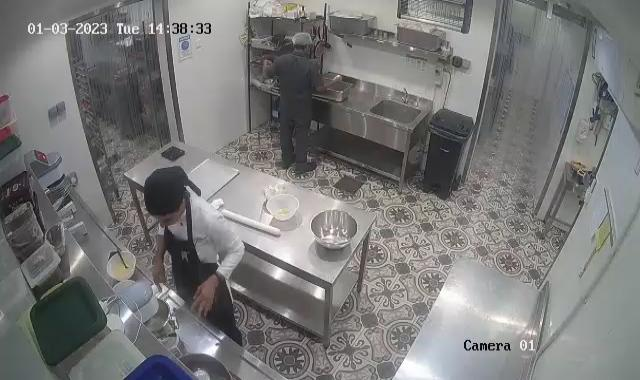hairnet: (291, 31, 314, 51)
no_hairnet: (144, 166, 190, 226)
